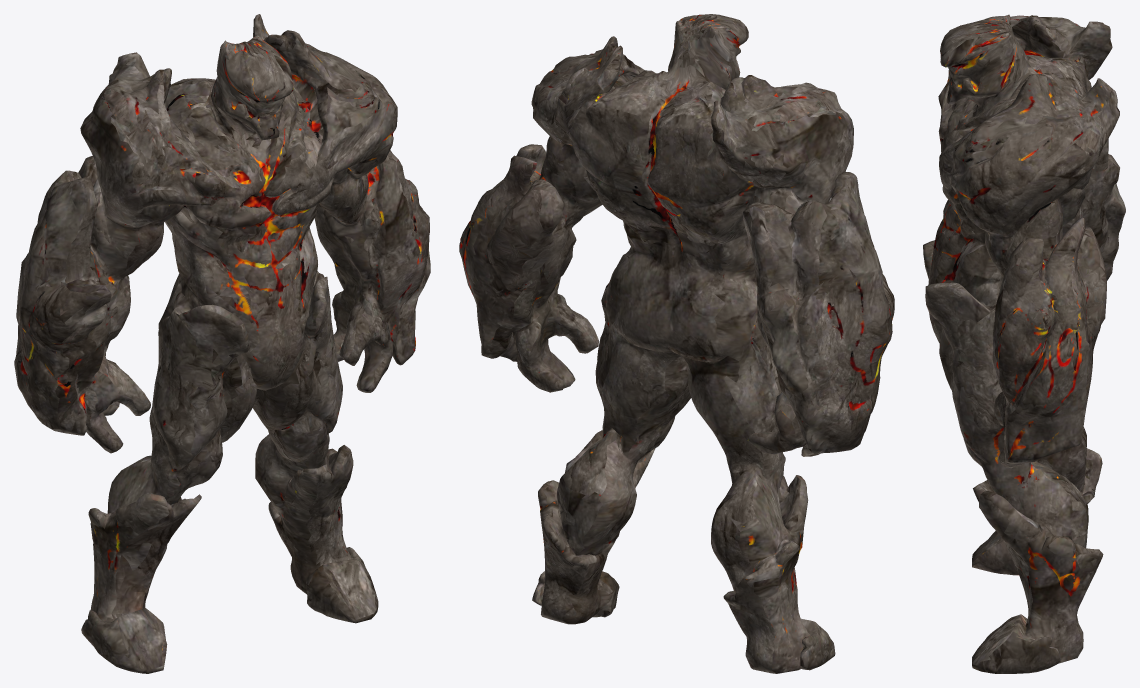
Rendered from Fire_Golem_OBJ.obj.
3 views of the same model, side by side, from view 1: azimuth 30°, elevation 25°; view 2: azimuth 150°, elevation 25°; view 3: azimuth 270°, elevation 25° (orthographic). The views are drawn at different scales.
Visible parts, largest first — view 1: LOW_POLY1_meshId0_name; view 2: LOW_POLY1_meshId0_name; view 3: LOW_POLY1_meshId0_name.
Part boxes in pixels (box(x1,y1,x2,y2)): LOW_POLY1_meshId0_name: box(14, 14, 430, 673); LOW_POLY1_meshId0_name: box(459, 14, 894, 673); LOW_POLY1_meshId0_name: box(923, 14, 1125, 673).
Size of the model in its own units: 4.64 by 6.43 by 2.
